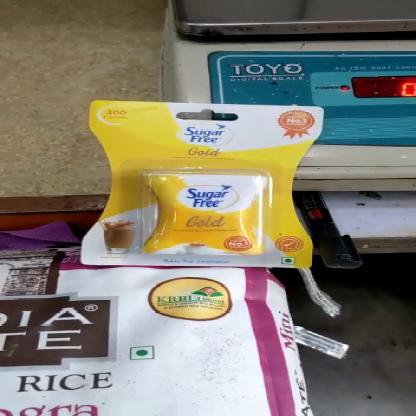SUGAR FREE GOLD 500 PELLET: (79, 103, 320, 268)
